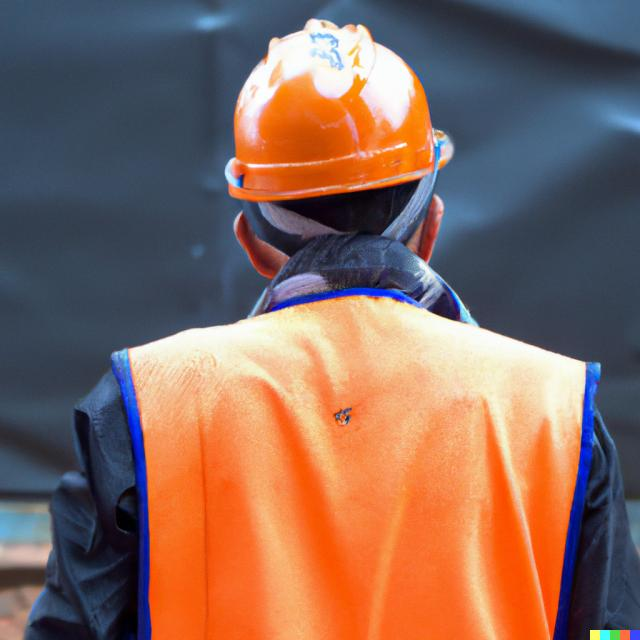Reflective-Jacket: (80, 284, 606, 638)
Safety-Helmet: (221, 23, 441, 200)
